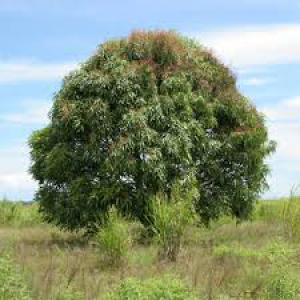Tree: (25, 28, 270, 257)
